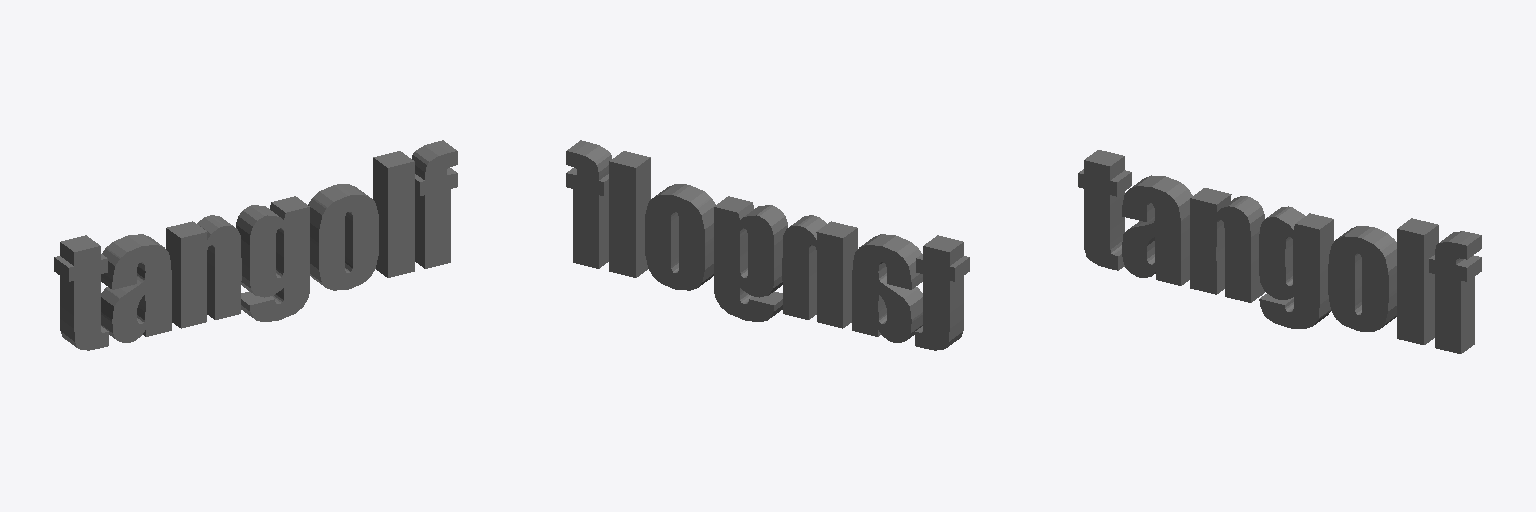
The model's file is tangolf.obj.
3 views of the same model, side by side, from view 1: azimuth 30°, elevation 25°; view 2: azimuth 150°, elevation 25°; view 3: azimuth 330°, elevation 25° (orthographic).
Visible parts, largest first — view 1: curve1; view 2: curve1; view 3: curve1.
Boxes of the visible parts, <box> form: curve1: <box>54,140,457,350</box>; curve1: <box>566,140,969,350</box>; curve1: <box>1078,150,1481,353</box>.
Size of the model in its own units: 2.88 by 0.8925 by 0.1859.